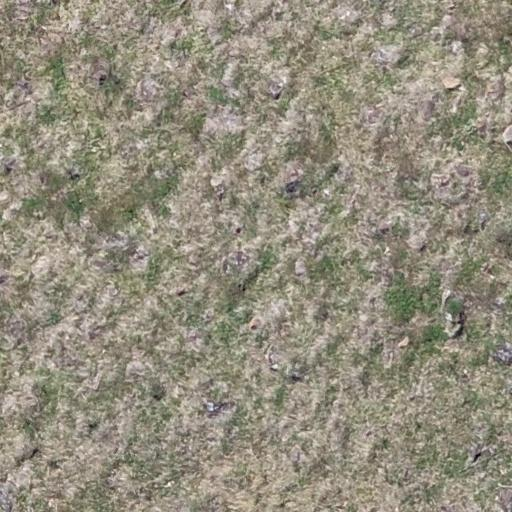stone: (441, 74, 463, 92), (268, 82, 282, 100), (398, 336, 410, 350), (0, 162, 12, 176)
